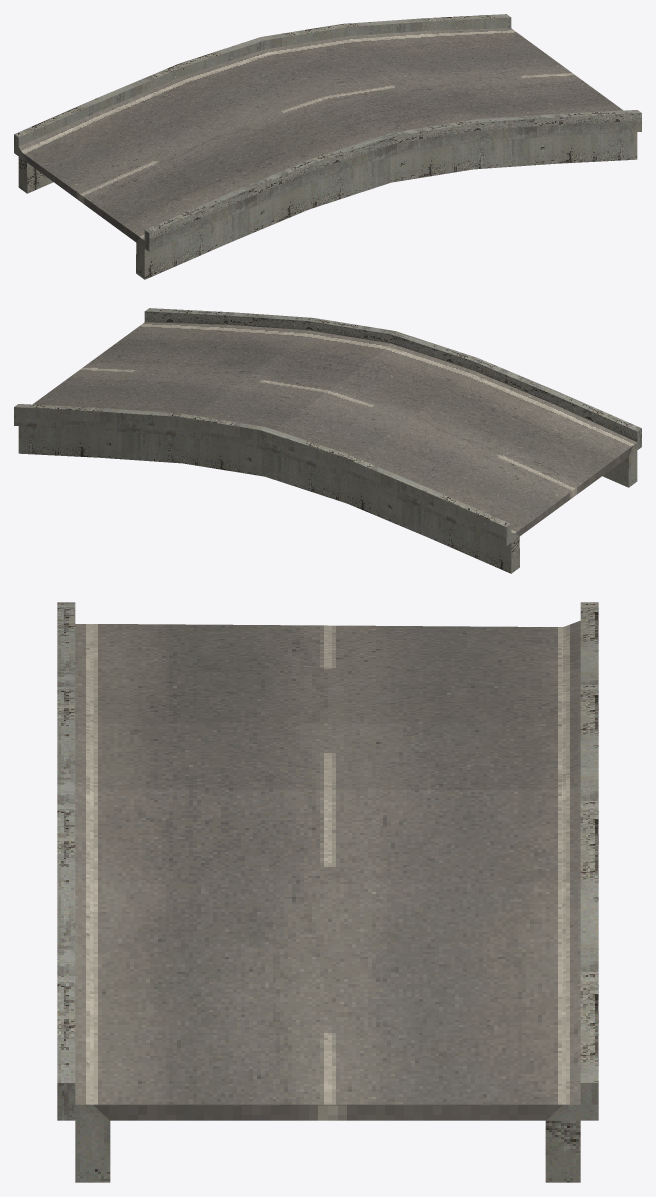
File: road_4_small_bridge_no_sides.glb
The picture shows the model from 3 angles, top to bottom: view 1: azimuth 30°, elevation 25°; view 2: azimuth 150°, elevation 25°; view 3: azimuth 270°, elevation 25°; orthographic projection. The views are drawn at different scales.
Visible parts, largest first — view 1: road_4_small_bridge_no_sides; view 2: road_4_small_bridge_no_sides; view 3: road_4_small_bridge_no_sides.
Boxes of the visible parts, box(x1,y1,x2,y2) form: road_4_small_bridge_no_sides: box(14, 14, 641, 279); road_4_small_bridge_no_sides: box(14, 308, 641, 573); road_4_small_bridge_no_sides: box(57, 602, 598, 1182).
Size of the model in its own units: 36 by 6.07 by 17.13.
Materials: 2 (2 with a texture image).
